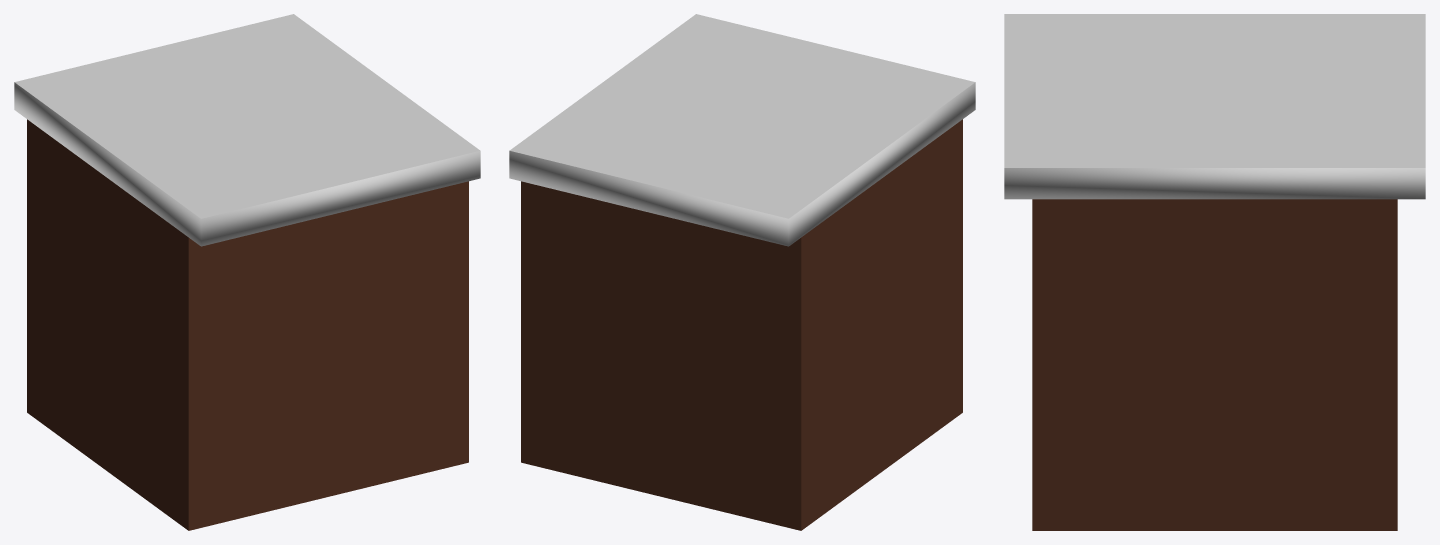
Rendered from counter.fbx.
3 renders of one model, left to right at view 1: azimuth 30°, elevation 25°; view 2: azimuth 150°, elevation 25°; view 3: azimuth 270°, elevation 25°, orthographic. The views are drawn at different scales.
Visible parts, largest first — view 1: Counter; view 2: Counter; view 3: Counter.
Boxes of the visible parts, box(x1,y1,x2,y2) form: Counter: box(14, 14, 480, 530); Counter: box(509, 14, 975, 530); Counter: box(1004, 14, 1425, 530).
Size of the model in its own units: 200 by 231 by 219.
